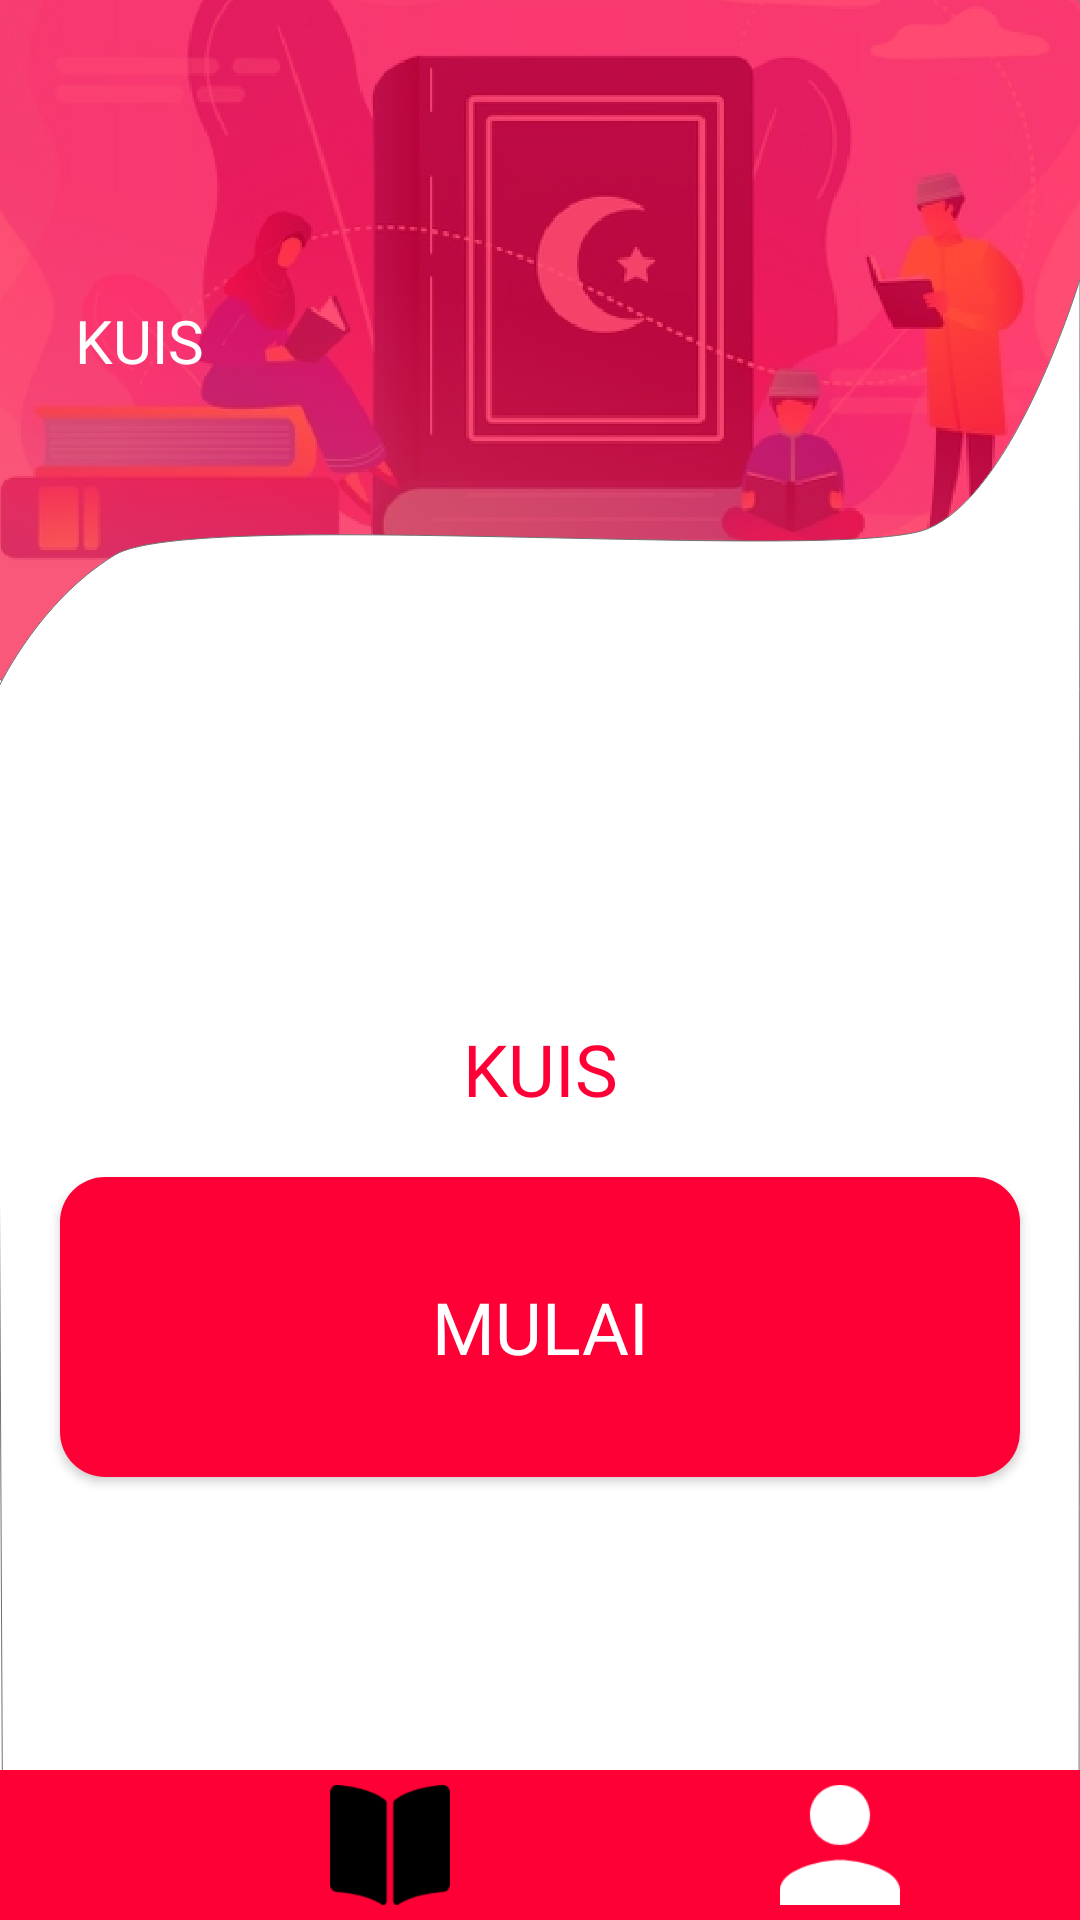

Where icons sit on this 1080x1920 app screen, as box=[x1, y1, x2, y2]:
akun: box=[780, 1785, 900, 1905]
